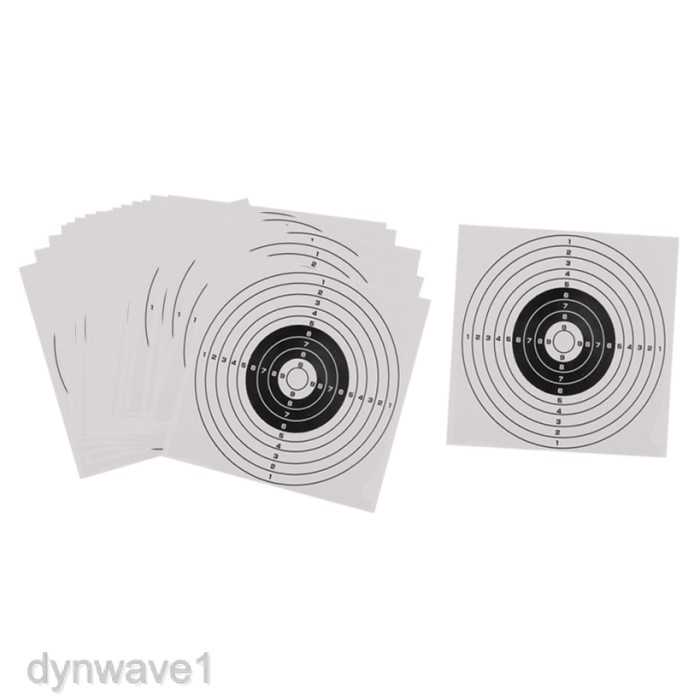target: (445, 215, 682, 463), (177, 272, 430, 492)
